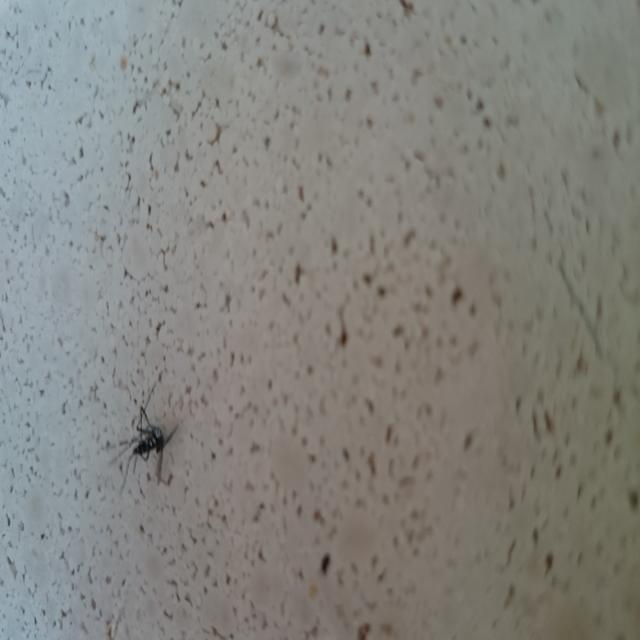albopictus: (110, 377, 186, 487)
